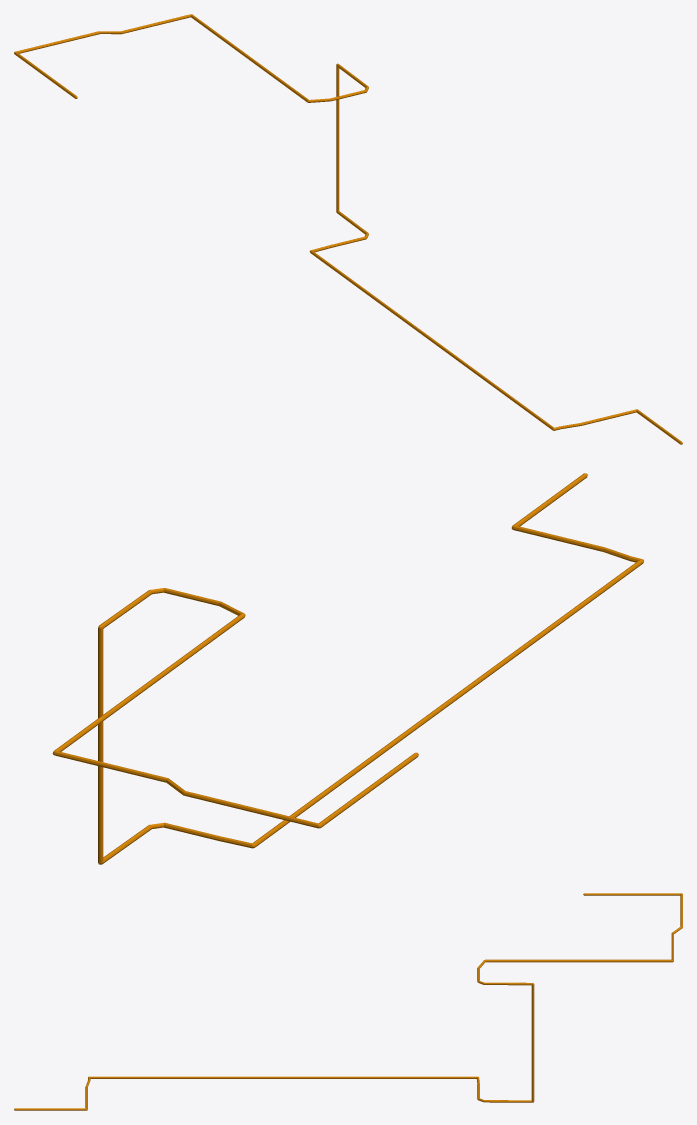
The picture shows the model from 3 angles, top to bottom: view 1: azimuth 30°, elevation 25°; view 2: azimuth 150°, elevation 25°; view 3: azimuth 270°, elevation 25°; orthographic projection. The views are drawn at different scales.
Bounding box in the file's own units: 1803 × 1020 × 5163.
